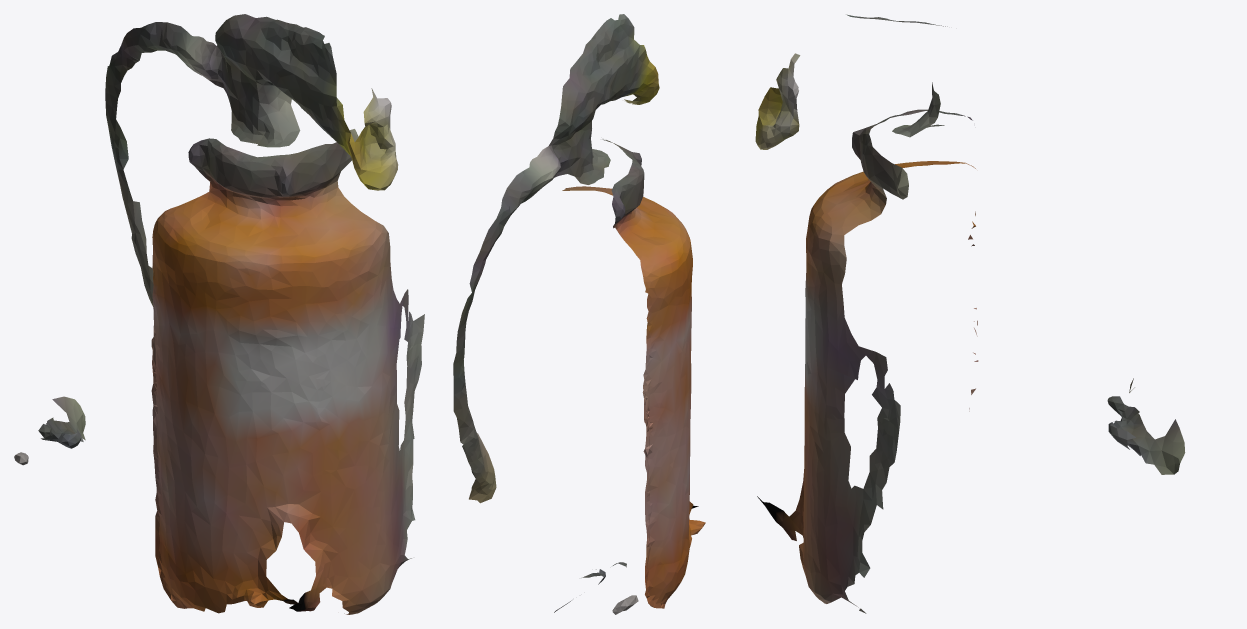
3 views of the same model, side by side, from view 1: azimuth 30°, elevation 25°; view 2: azimuth 150°, elevation 25°; view 3: azimuth 270°, elevation 25° (orthographic). The views are drawn at different scales.
Parts seen in each view (by area): view 1: world; view 2: world; view 3: world.
Part boxes in pixels (bbox=[...]): world: bbox=[14, 14, 424, 614]; world: bbox=[453, 14, 705, 614]; world: bbox=[755, 14, 1185, 613].
Bounding box in the file's own units: 0.5338 × 1 × 0.7481.
